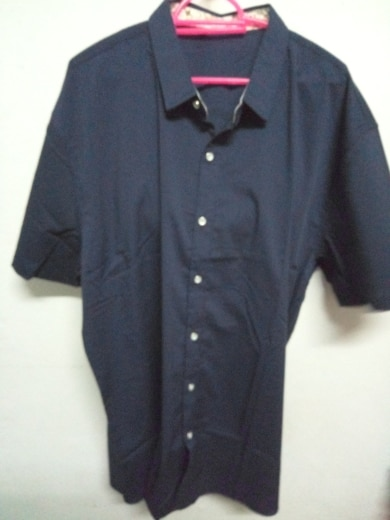shirts: (32, 13, 379, 509)
